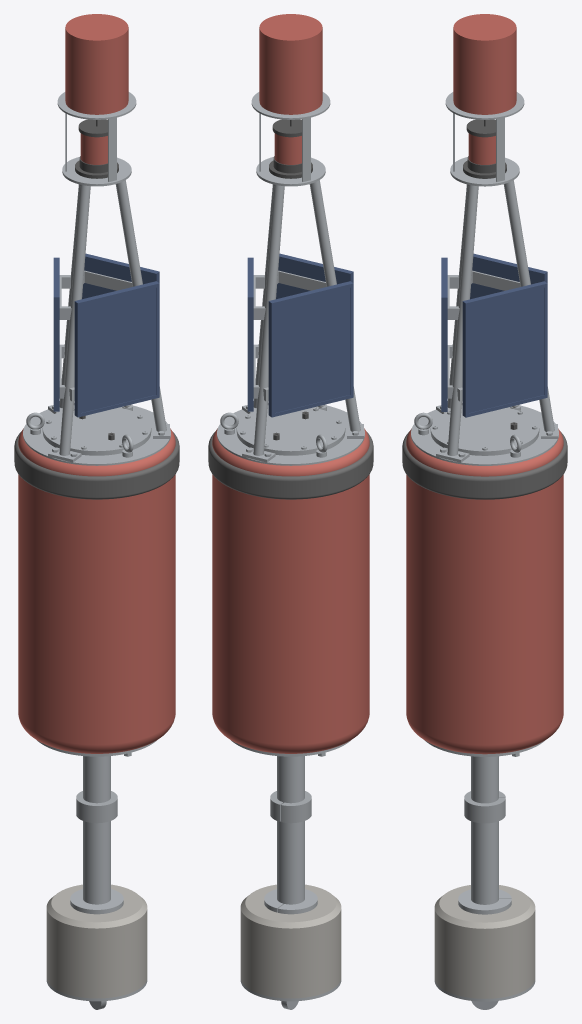
Rendered from step_05.glb.
3 renders of one model, left to right at view 1: azimuth 30°, elevation 25°; view 2: azimuth 150°, elevation 25°; view 3: azimuth 270°, elevation 25°, orthographic.
Parts seen in each view (by area): view 1: part__float hull, part__solar panel 1, part__ballast ring, part__topmark, part__fender ring, part__tail tube, part__hatch lid, part__tripod leg 2, part__deck plate, part__tripod leg 3, part__solar panel 2, part__solar panel 3 (+10 smaller); view 2: part__float hull, part__solar panel 3, part__ballast ring, part__topmark, part__fender ring, part__tail tube, part__hatch lid, part__tripod leg 1, part__deck plate, part__tripod leg 2, part__solar panel 1, part__solar panel 2 (+10 smaller); view 3: part__float hull, part__solar panel 2, part__ballast ring, part__topmark, part__fender ring, part__tail tube, part__hatch lid, part__tripod leg 3, part__deck plate, part__tripod leg 1, part__solar panel 3, part__solar panel 1 (+10 smaller).
Boxes of the visible parts, left/top/right/bottom form: part__float hull: left=18, top=428, right=175, bottom=753; part__solar panel 1: left=74, top=281, right=159, bottom=417; part__ballast ring: left=46, top=884, right=147, bottom=998; part__topmark: left=65, top=14, right=128, bottom=114; part__fender ring: left=14, top=432, right=179, bottom=499; part__tail tube: left=46, top=756, right=147, bottom=1001; part__hatch lid: left=42, top=407, right=151, bottom=453; part__tripod leg 2: left=48, top=184, right=90, bottom=462; part__deck plate: left=23, top=405, right=170, bottom=465; part__tripod leg 3: left=115, top=180, right=169, bottom=438; part__solar panel 2: left=82, top=253, right=159, bottom=299; part__solar panel 3: left=53, top=257, right=59, bottom=411; part__float hull: left=212, top=428, right=369, bottom=753; part__solar panel 3: left=268, top=281, right=353, bottom=417; part__ballast ring: left=240, top=884, right=341, bottom=998; part__topmark: left=259, top=14, right=322, bottom=114; part__fender ring: left=208, top=432, right=373, bottom=499; part__tail tube: left=240, top=756, right=341, bottom=1001; part__hatch lid: left=236, top=407, right=345, bottom=453; part__tripod leg 1: left=242, top=184, right=284, bottom=462; part__deck plate: left=217, top=405, right=364, bottom=465; part__tripod leg 2: left=309, top=180, right=363, bottom=438; part__solar panel 1: left=276, top=253, right=353, bottom=299; part__solar panel 2: left=247, top=257, right=253, bottom=411; part__float hull: left=406, top=428, right=563, bottom=754; part__solar panel 2: left=462, top=281, right=547, bottom=417; part__ballast ring: left=434, top=885, right=535, bottom=998; part__topmark: left=453, top=14, right=516, bottom=114; part__fender ring: left=402, top=431, right=567, bottom=499; part__tail tube: left=434, top=756, right=535, bottom=1001; part__hatch lid: left=430, top=407, right=539, bottom=453; part__tripod leg 3: left=436, top=184, right=478, bottom=462; part__deck plate: left=411, top=405, right=558, bottom=465; part__tripod leg 1: left=503, top=180, right=557, bottom=438; part__solar panel 3: left=470, top=253, right=547, bottom=299; part__solar panel 1: left=441, top=257, right=447, bottom=411.
Size of the model in its own units: 524 by 3435 by 524.
